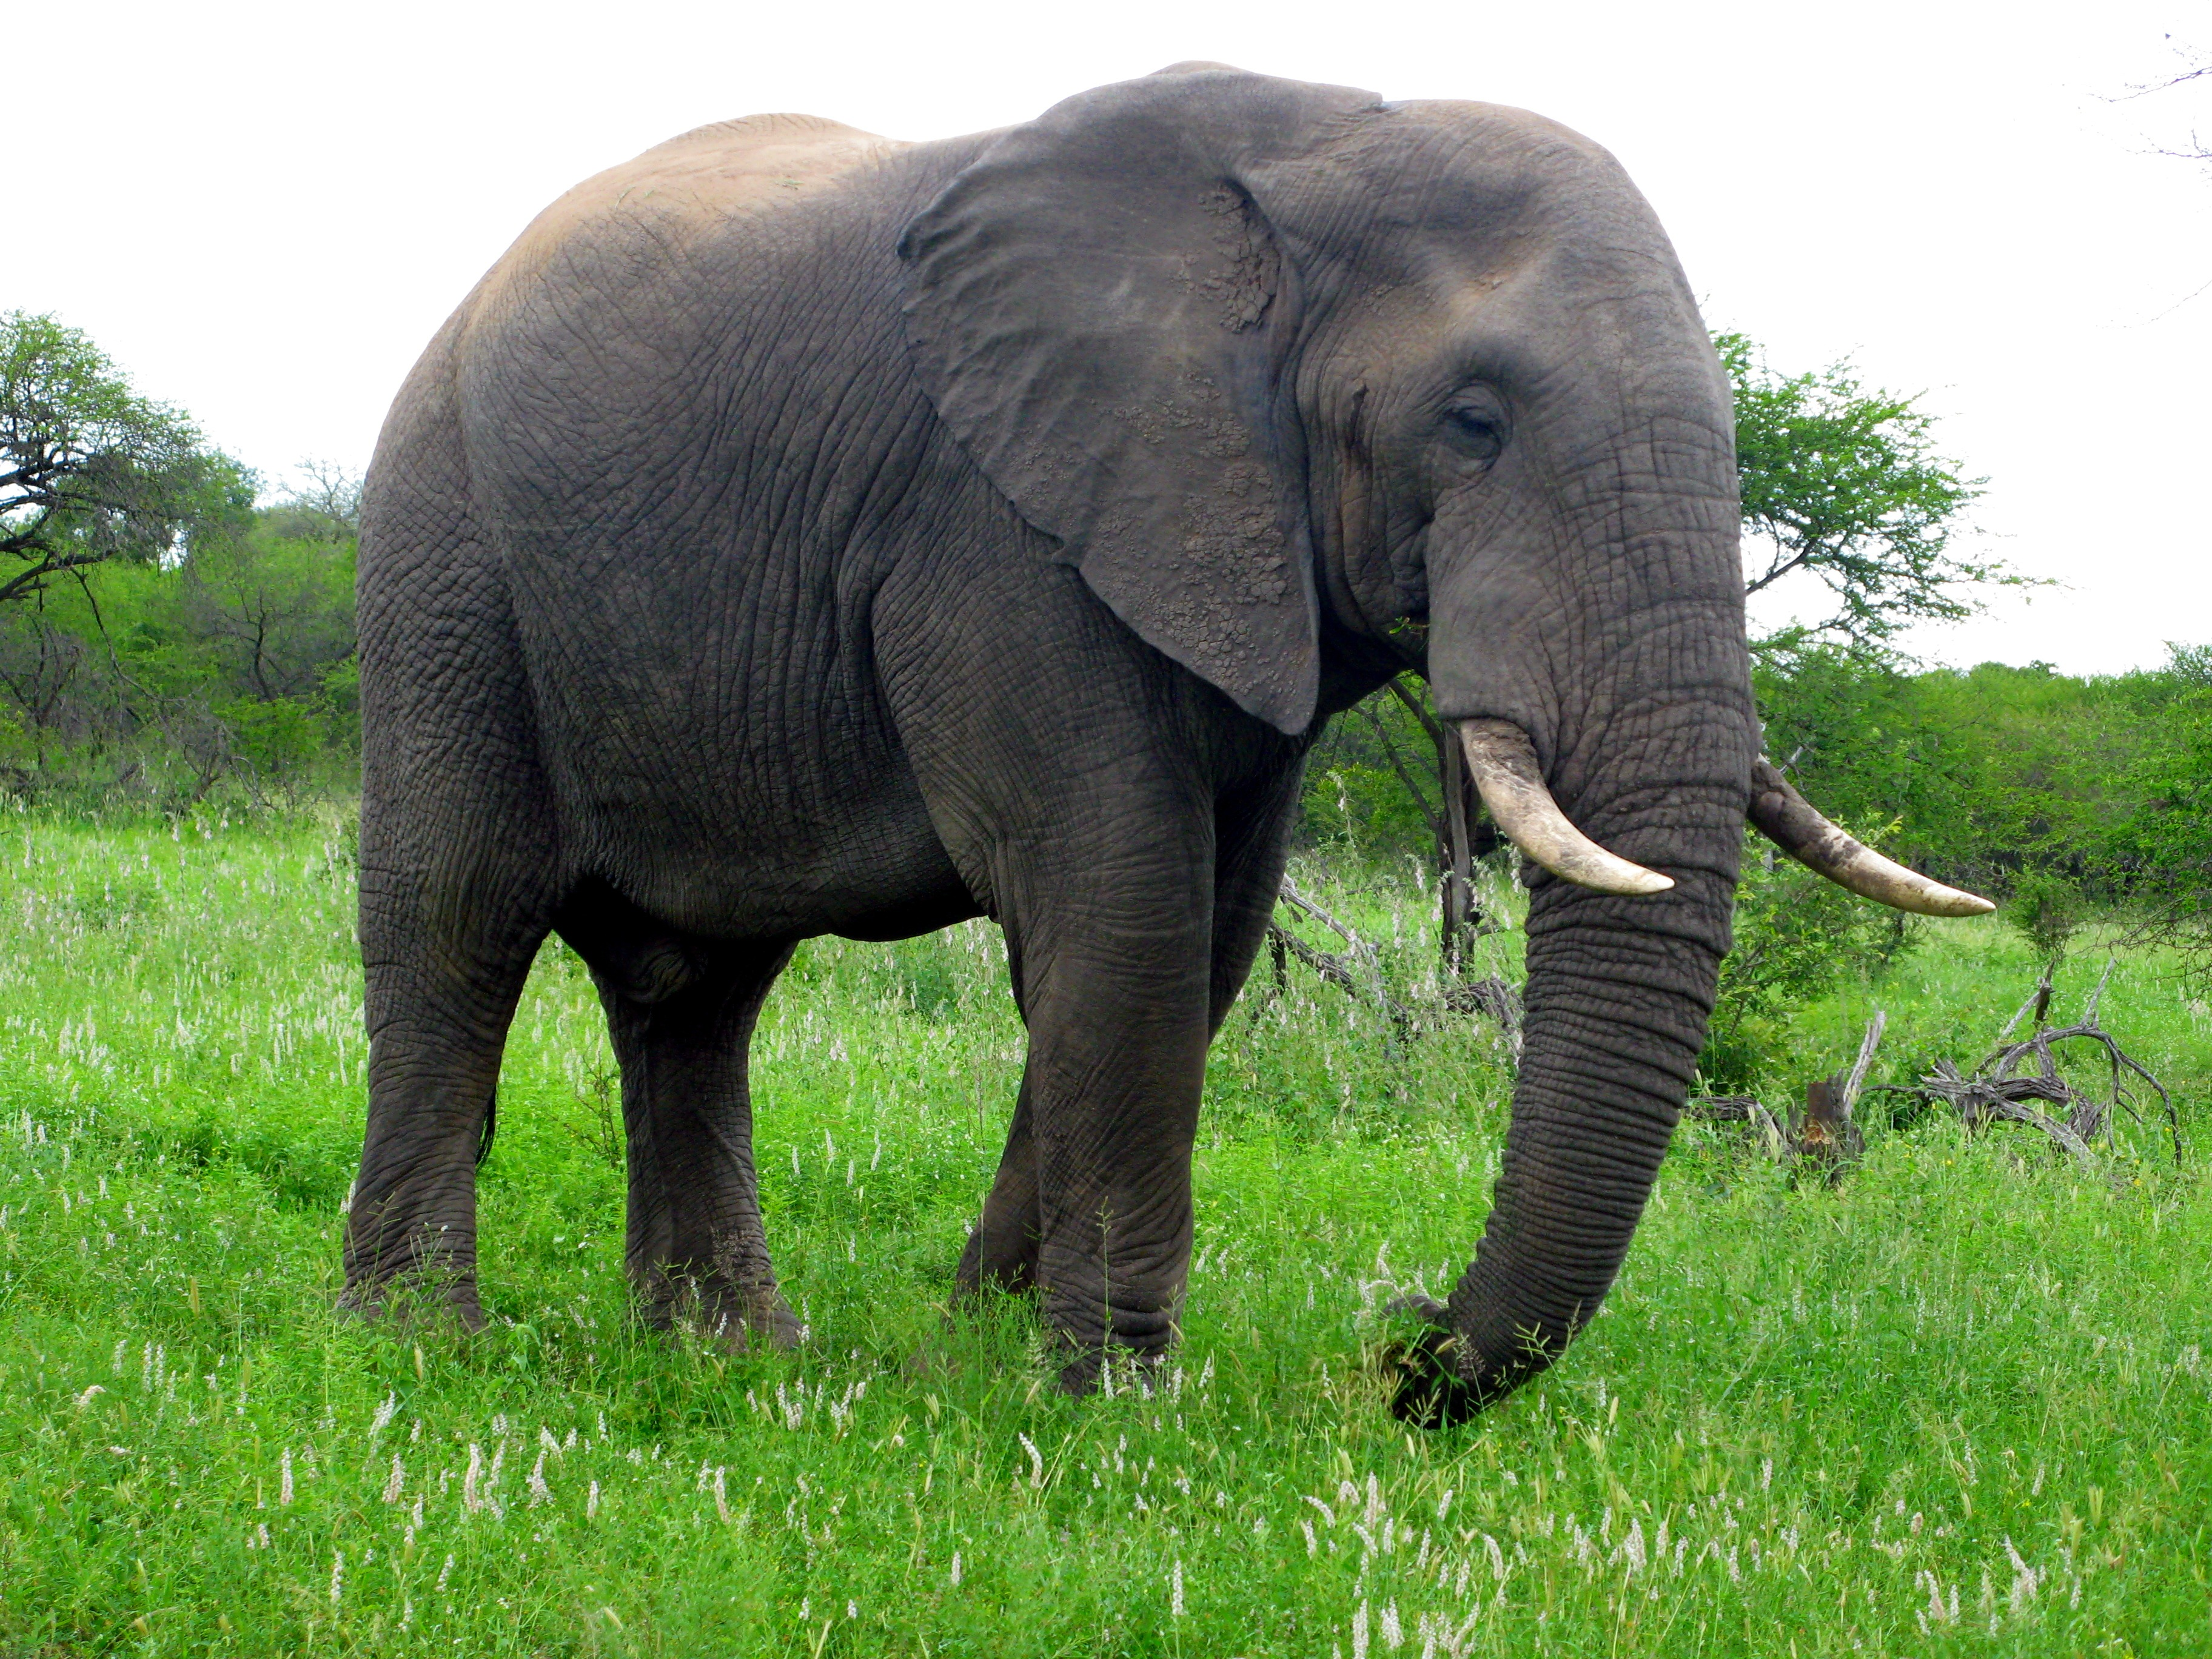Indian Elephant: (312, 44, 2019, 1469)
